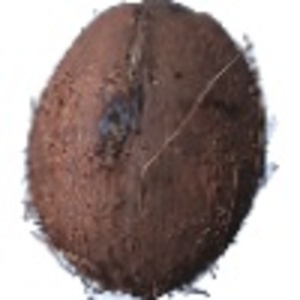coco: (23, 1, 278, 300)
